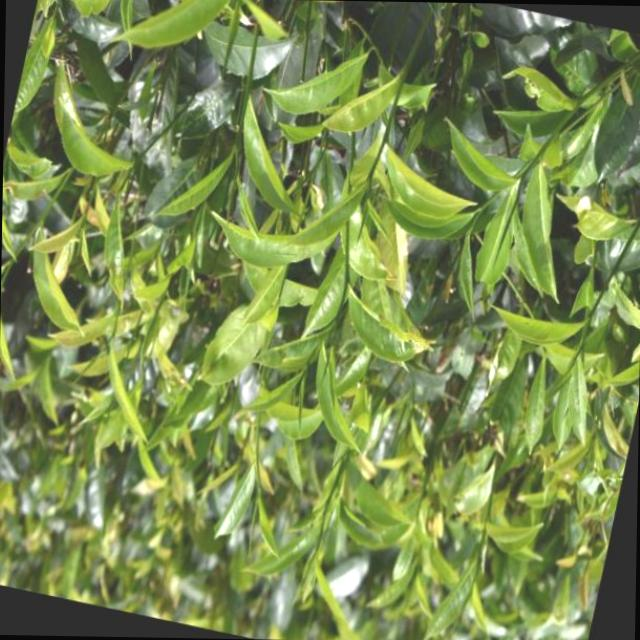Stem: (521, 170, 527, 177), (368, 171, 373, 177), (344, 276, 350, 281), (234, 141, 239, 147), (588, 313, 593, 317), (84, 209, 88, 214), (256, 482, 261, 486)
